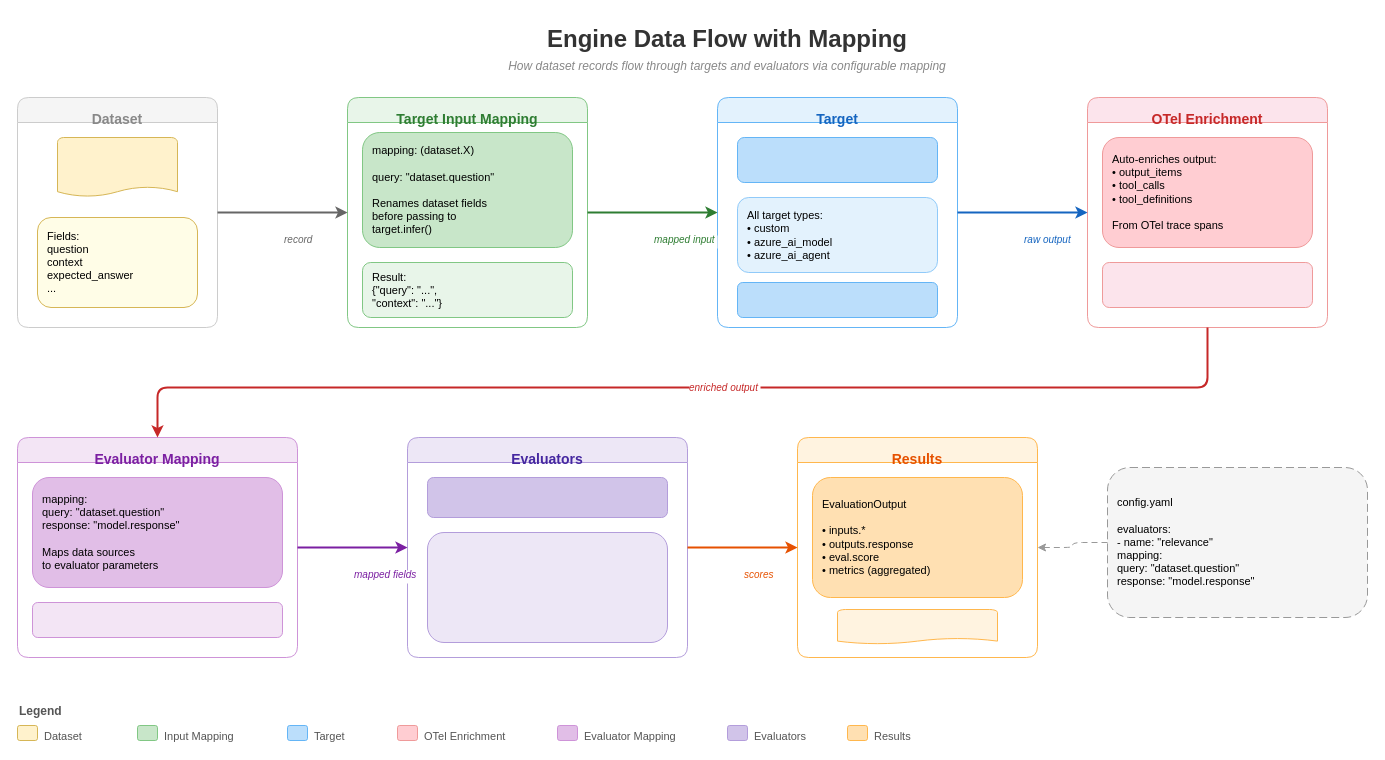
The diagram is 1385 pixels wide and 760 high, and some of its shapes have lost their labels. Each missing label, with the box of its shape:
data.jsonl: (56, 136, 178, 198)
evaluator.compute(**fields): (426, 476, 668, 518)
output/results.jsonl: (836, 608, 998, 644)
Returns: {"response": "..."}: (736, 282, 938, 318)
Sources: dataset.X | model.X: (32, 602, 282, 638)
target.infer(input): (736, 136, 938, 182)
Targets just return text; engine captures the rest: (1102, 262, 1312, 308)
• coherence • relevance • f1_score • task_adherence • custom @evaluator: (426, 532, 668, 642)
